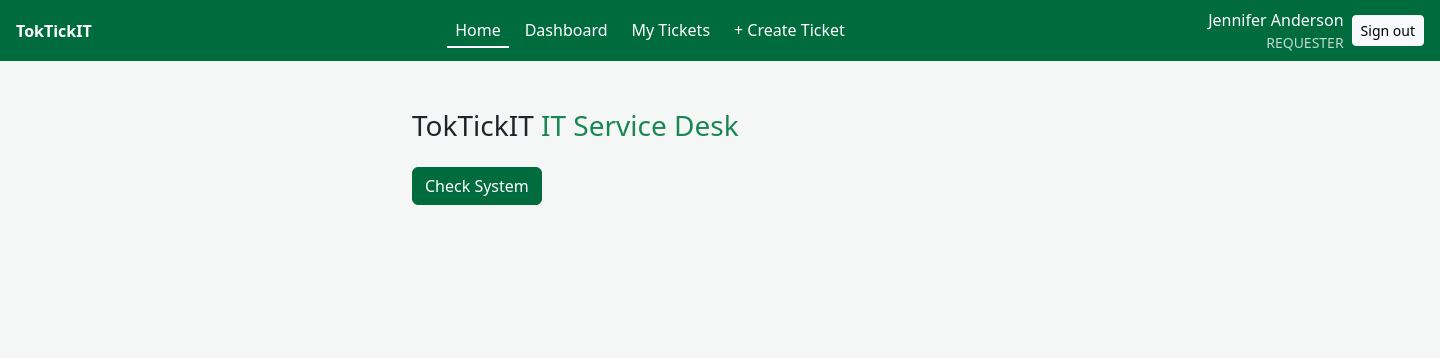
Scenario: Lab 3 authenticated session recovery › keeps the workspace active and offers retry when logout fails
Expected: the button "Check System" is shown, [412,167,542,205]
Click the button "Sign out".
click(1388, 30)  # box [1352,15,1424,46]
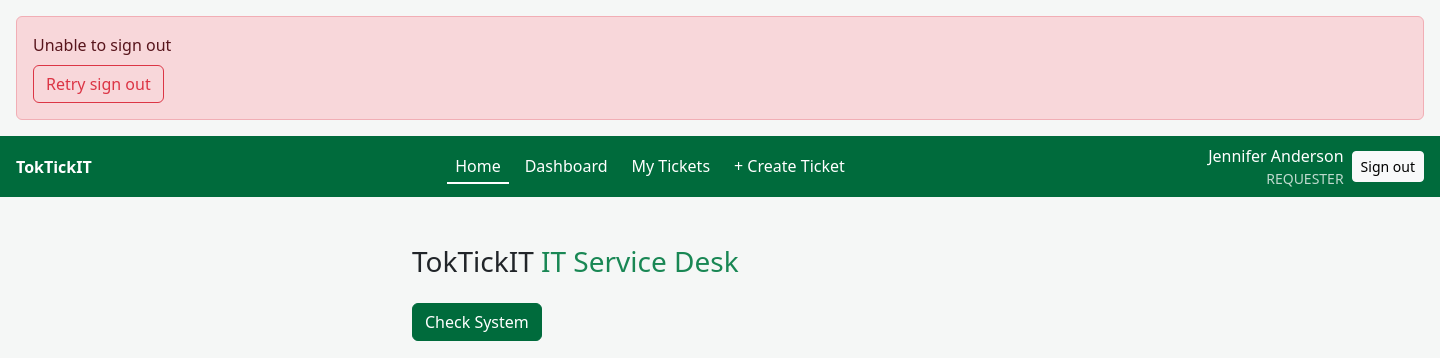
Expected: the button "Check System" is shown, [412,303,542,341]
Result: the message shows "Unable to sign out" at [33,34,171,56]
Result: the button "Retry sign out" is shown at [33,65,164,103]
